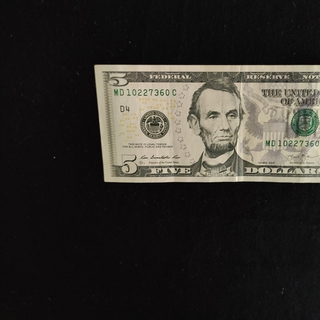5USDFront: (93, 63, 320, 183)
